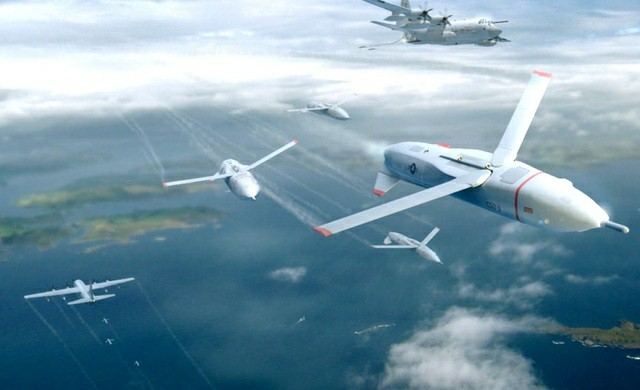maybay_khongnguoilai: (329, 71, 615, 256), (155, 142, 307, 209), (371, 224, 444, 266), (289, 87, 350, 124)
